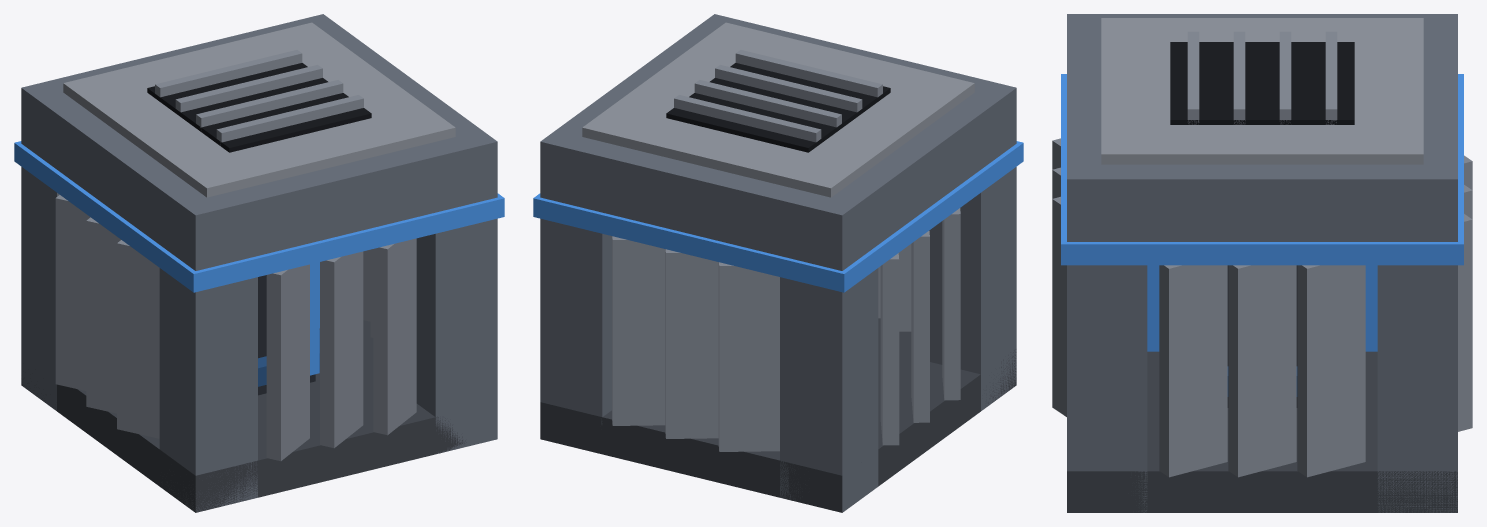
Rendered from turbine.glb.
The picture shows the model from 3 angles, left to right: view 1: azimuth 30°, elevation 25°; view 2: azimuth 150°, elevation 25°; view 3: azimuth 270°, elevation 25°; orthographic projection. The views are drawn at different scales.
Visible parts, largest first — view 1: body.025; view 2: body.025; view 3: body.025.
Part boxes in pixels (box(x1,y1,x2,y2)): body.025: box(14, 14, 504, 512); body.025: box(533, 14, 1023, 512); body.025: box(1052, 14, 1472, 512).
Bounding box in the file's own units: 1.14 × 1.08 × 1.14.
